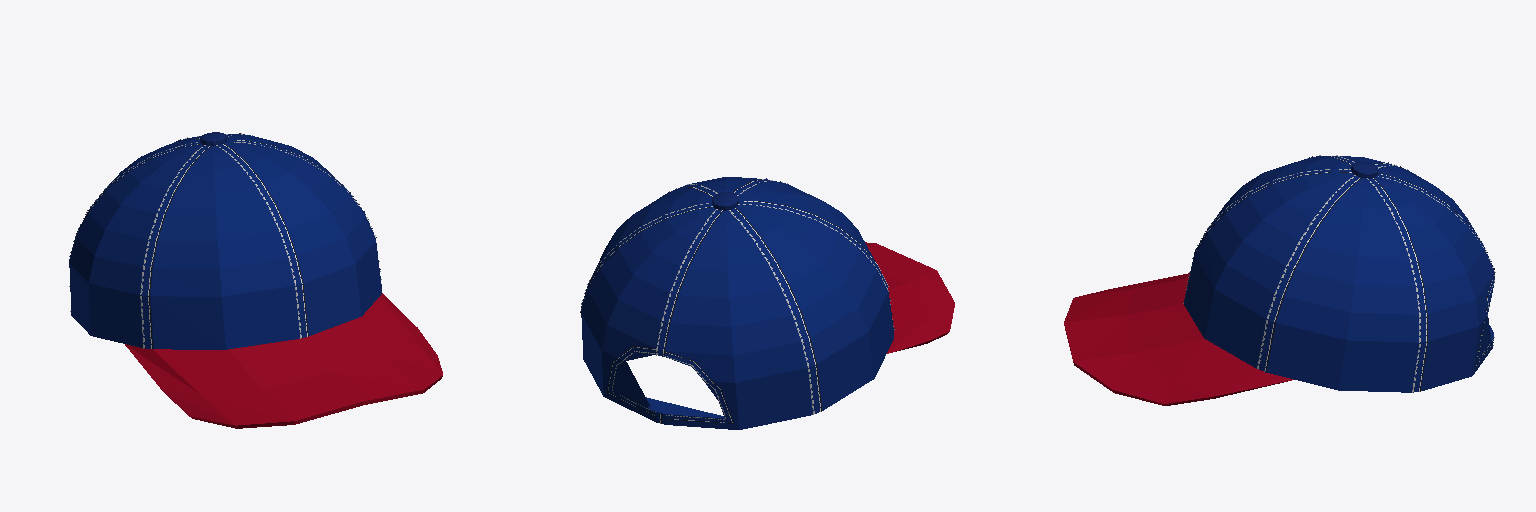
3 renders of one model, left to right at view 1: azimuth 30°, elevation 25°; view 2: azimuth 150°, elevation 25°; view 3: azimuth 270°, elevation 25°, orthographic.
Parts seen in each view (by area): view 1: Sphere.002, Sphere.000_Sphere.003, Sphere.003_Sphere.000; view 2: Sphere.002, Sphere.000_Sphere.003, Sphere.003_Sphere.000; view 3: Sphere.002, Sphere.000_Sphere.003, Sphere.003_Sphere.000.
Part boxes in pixels (left/top/right/bottom): Sphere.002: left=69, top=134, right=381, bottom=349; Sphere.000_Sphere.003: left=125, top=293, right=442, bottom=428; Sphere.003_Sphere.000: left=69, top=133, right=381, bottom=349; Sphere.002: left=581, top=177, right=893, bottom=429; Sphere.000_Sphere.003: left=865, top=242, right=954, bottom=353; Sphere.003_Sphere.000: left=580, top=178, right=894, bottom=423; Sphere.002: left=1184, top=156, right=1494, bottom=392; Sphere.000_Sphere.003: left=1064, top=273, right=1293, bottom=405; Sphere.003_Sphere.000: left=1183, top=155, right=1495, bottom=392.
Bounding box in the file's own units: 23.75 × 15.22 × 32.74.
4 materials, 1 textured.